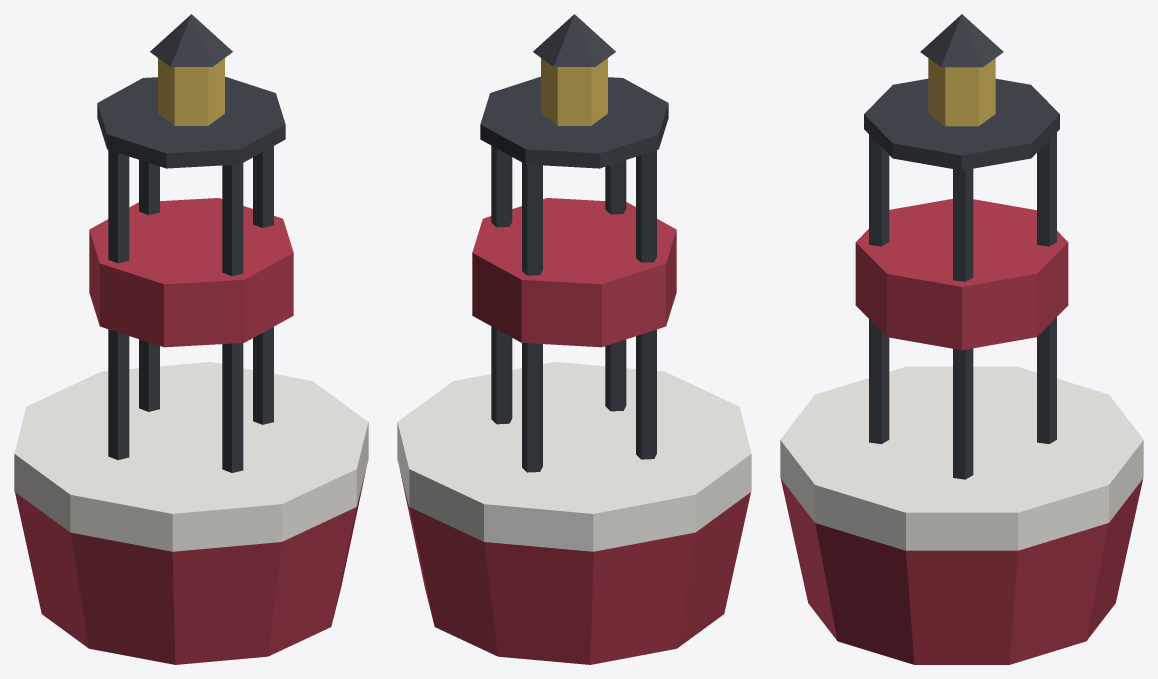
File: buoy.glb
3 views of the same model, side by side, from view 1: azimuth 30°, elevation 25°; view 2: azimuth 150°, elevation 25°; view 3: azimuth 270°, elevation 25° (orthographic).
Visible parts, largest first — view 1: buoy; view 2: buoy; view 3: buoy.
Part boxes in pixels (bbox=[...]): buoy: bbox=[14, 14, 368, 664]; buoy: bbox=[397, 14, 751, 664]; buoy: bbox=[780, 14, 1143, 664].
Bounding box in the file's own units: 1.24 × 2.33 × 1.3.
